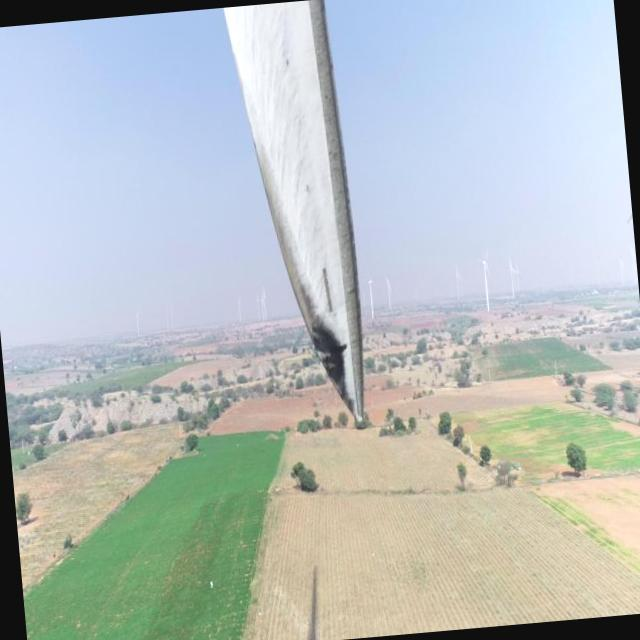Dirt: (225, 4, 363, 415)
Oil LEAKAGE: (306, 314, 359, 416)
Pin Hole: (338, 339, 352, 355), (283, 52, 295, 68), (302, 182, 314, 190)
